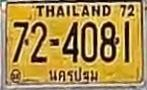0: (81, 21, 96, 61)
1: (124, 21, 129, 62)
2: (30, 21, 46, 62)
4: (62, 21, 78, 62)
7: (12, 21, 28, 62)
8: (99, 21, 116, 61)
NPT: (49, 65, 99, 85)
